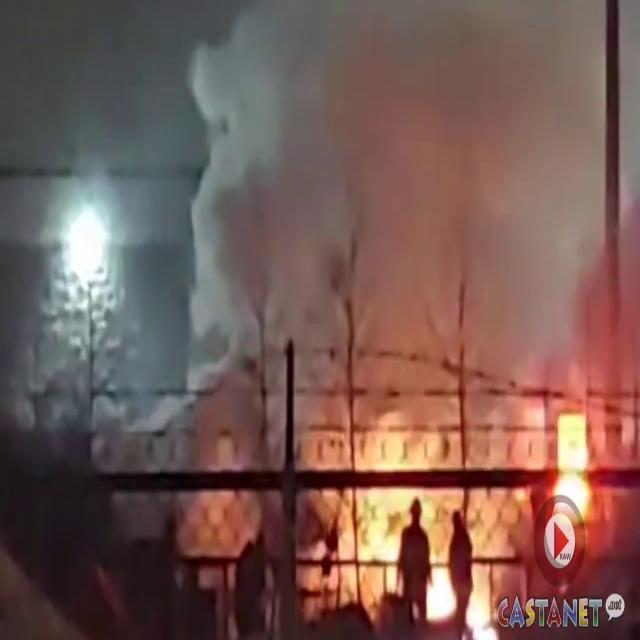Fire: (316, 411, 618, 635)
Smoke: (158, 1, 640, 412)
